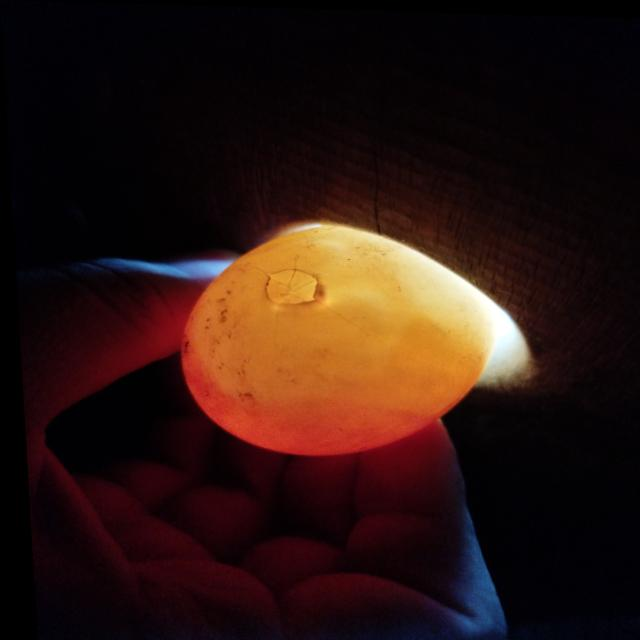Rachadura: (261, 268, 313, 303)
